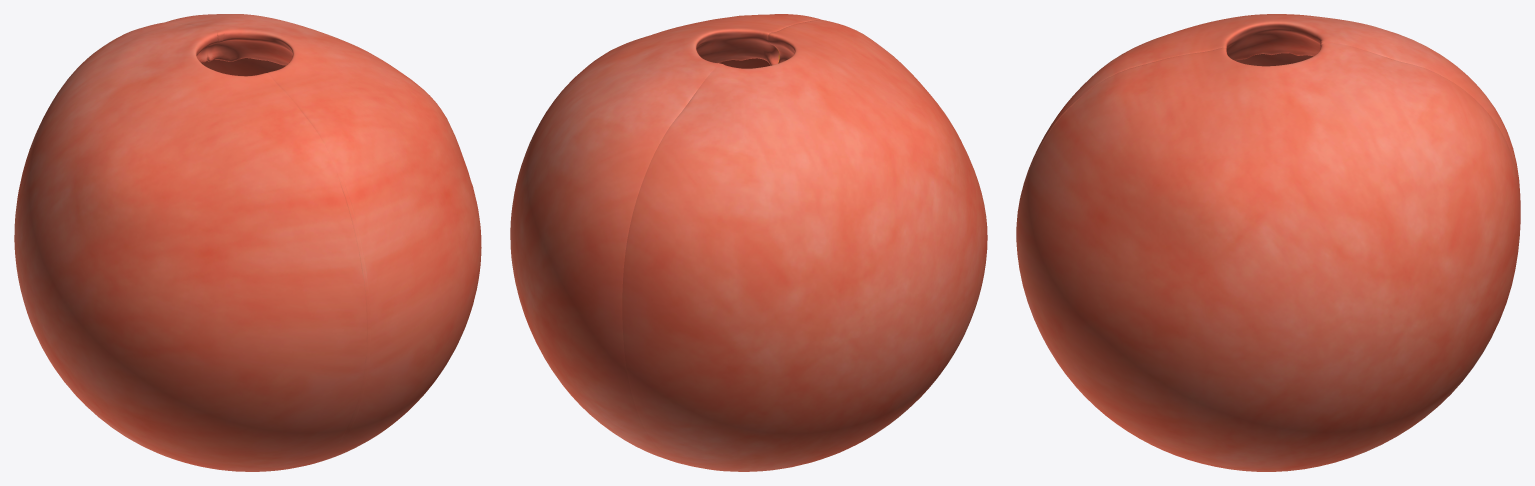
Rendered from 睫状体.obj.
The picture shows the model from 3 angles, left to right: view 1: azimuth 30°, elevation 25°; view 2: azimuth 150°, elevation 25°; view 3: azimuth 270°, elevation 25°; orthographic projection. The views are drawn at different scales.
Parts seen in each view (by area): view 1: e-睫状体; view 2: e-睫状体; view 3: e-睫状体.
Boxes of the visible parts, bbox=[...] form: e-睫状体: bbox=[14, 14, 481, 471]; e-睫状体: bbox=[510, 14, 987, 471]; e-睫状体: bbox=[1016, 14, 1520, 471].
Size of the model in its own units: 0.5516 by 0.5164 by 0.5809.
